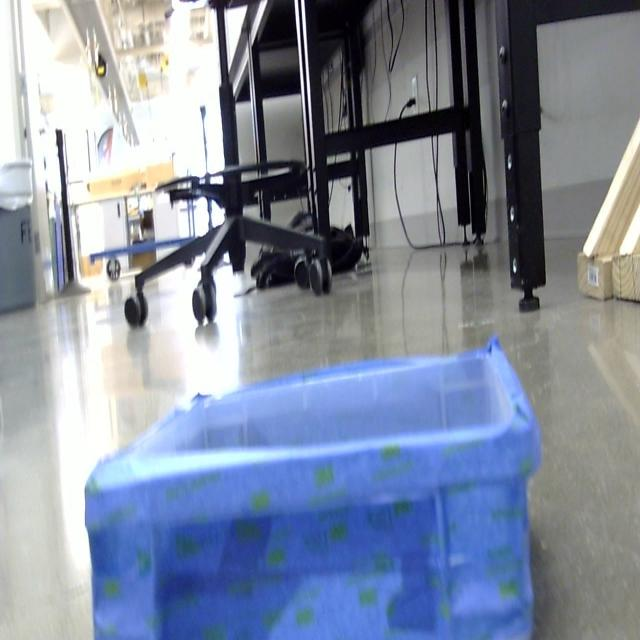bucket: (82, 338, 543, 640)
